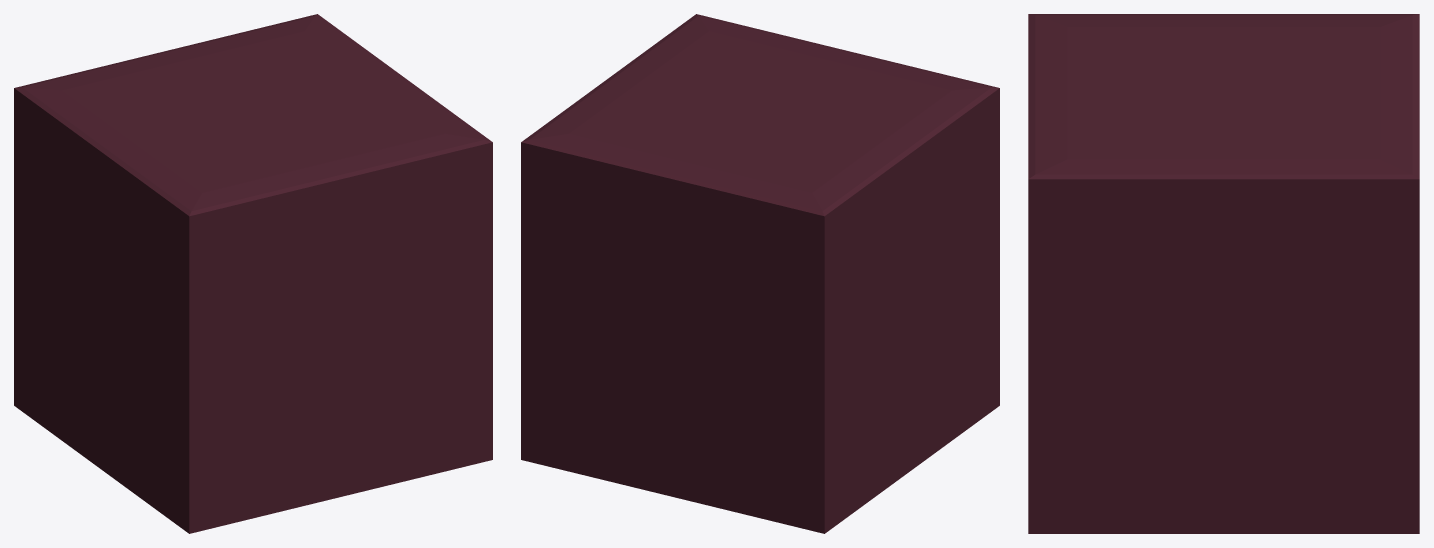
Rendered from poof.fbx.
3 renders of one model, left to right at view 1: azimuth 30°, elevation 25°; view 2: azimuth 150°, elevation 25°; view 3: azimuth 270°, elevation 25°, orthographic. The views are drawn at different scales.
Visible parts, largest first — view 1: Cube; view 2: Cube; view 3: Cube.
Boxes of the visible parts, box(x1,y1,x2,y2) form: Cube: box(14, 14, 492, 533); Cube: box(521, 14, 999, 533); Cube: box(1028, 14, 1419, 533).
Bounding box in the file's own units: 200 × 204 × 200.
